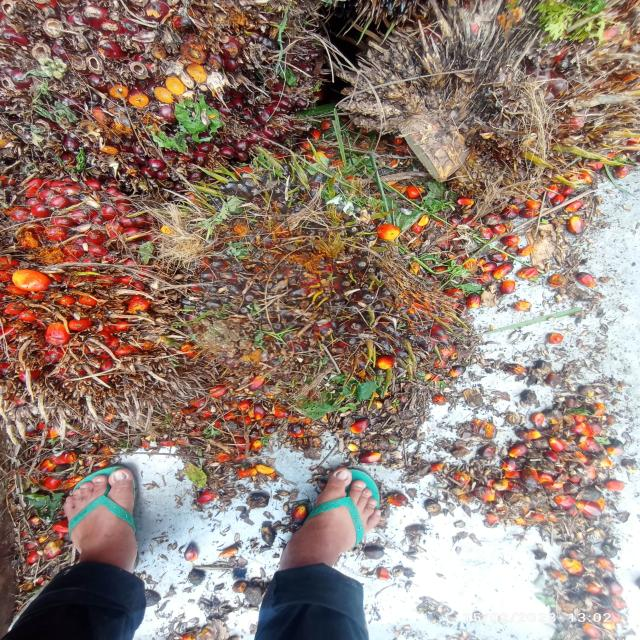fraksi 00: (164, 145, 477, 430)
fraksi 4: (0, 156, 184, 426)
